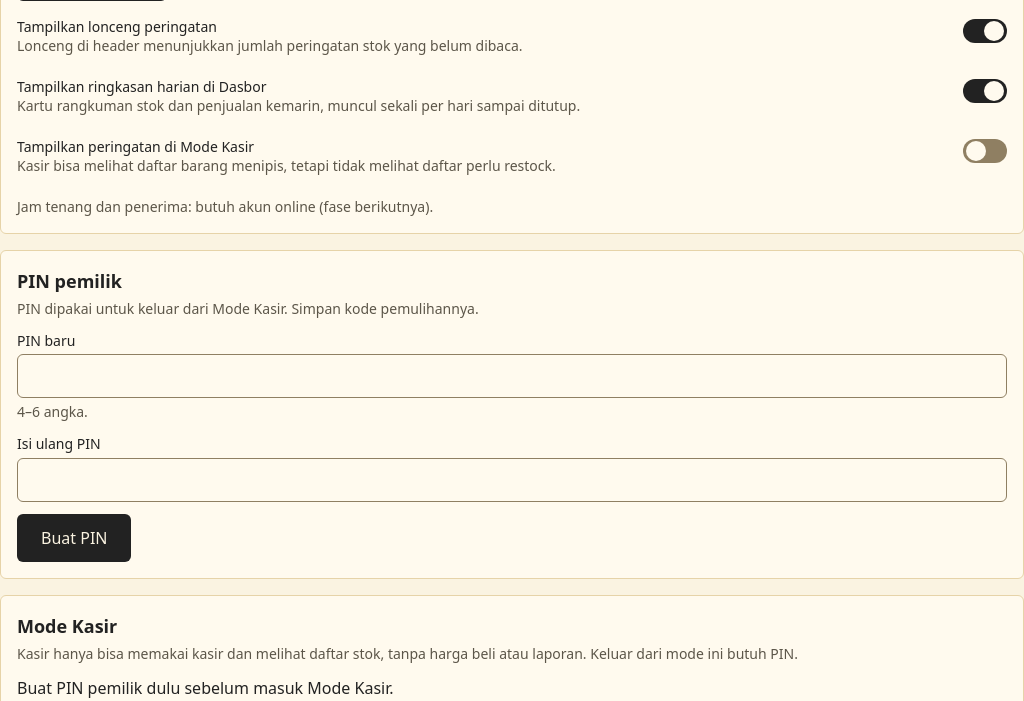
it: Mode Kasir › Pengaturan: PIN yang tidak sama ditolak dan tidak ada yang tersimpan
(page scrolled)
Step 1. Type "1357" into the password field labelled "PIN baru" → (512, 376), box [17,354,1007,398]
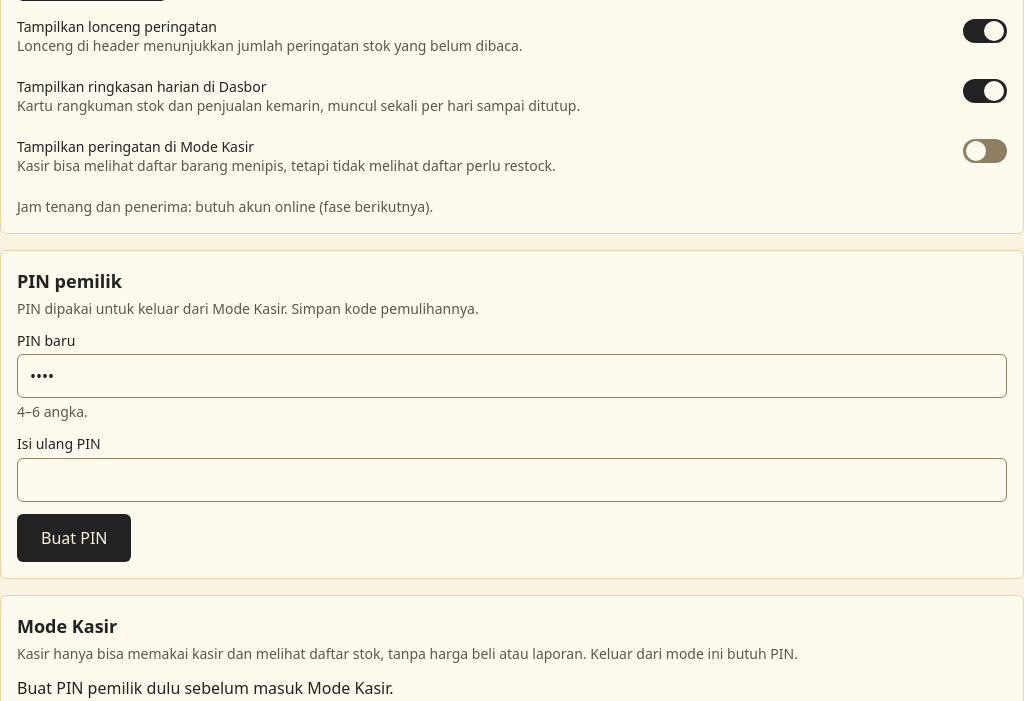
Step 2. Type "1358" into the password field labelled "Isi ulang PIN" → (512, 480), box [17,458,1007,502]
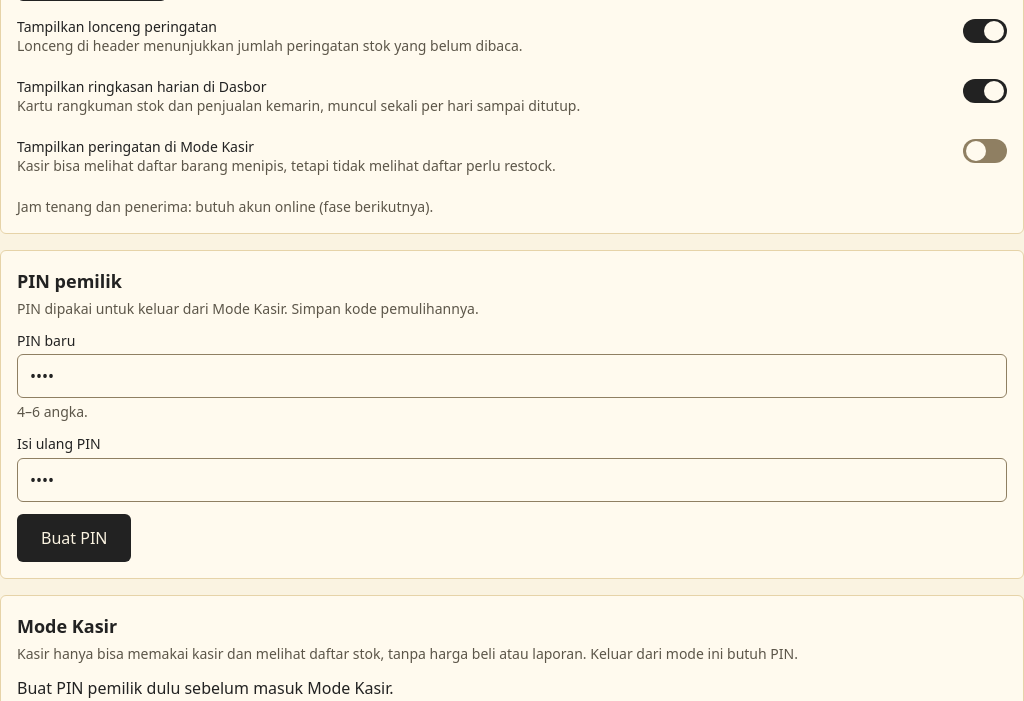
Step 3. Click the button "Buat PIN" → (74, 538), box [17,514,132,562]
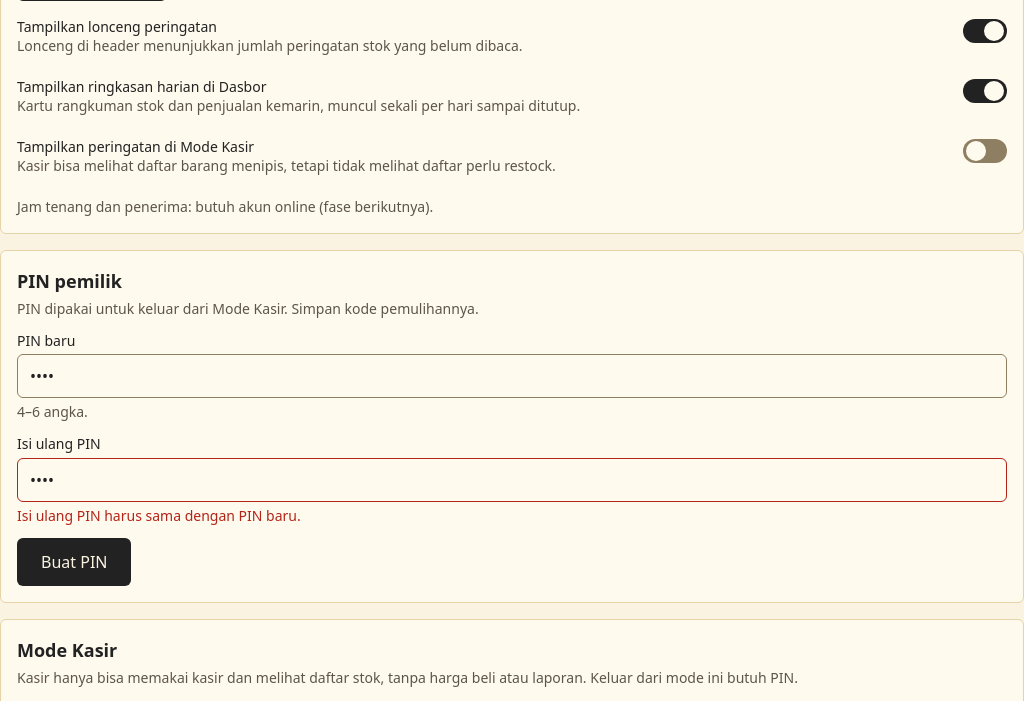
Expected: the text "Isi ulang PIN harus sama dengan PIN baru." is shown, [17,506,301,524]
